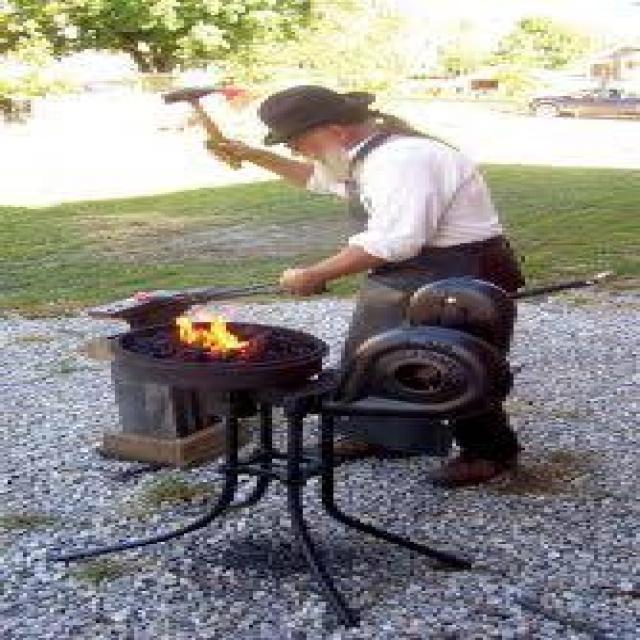hammer: (132, 74, 263, 176)
